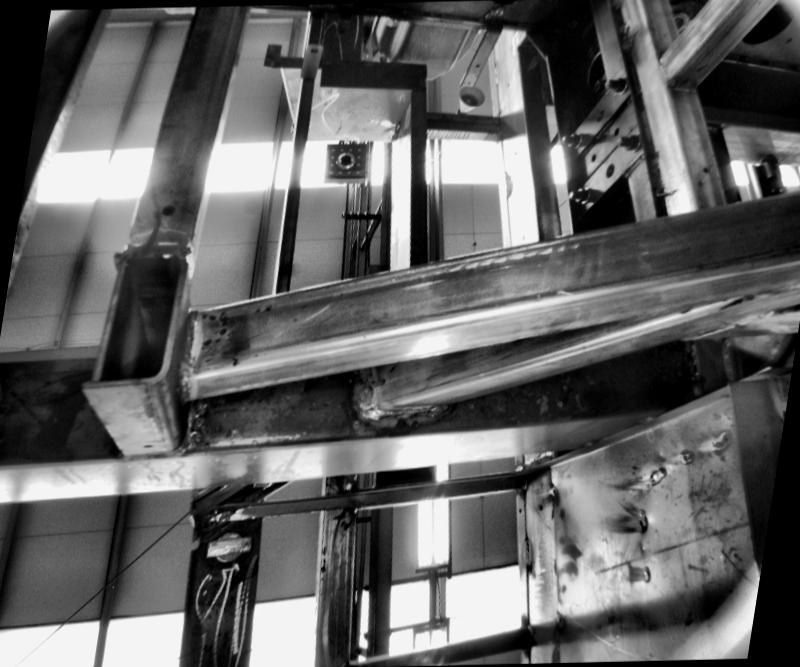bolt: (600, 73, 628, 95), (613, 134, 645, 152), (564, 186, 590, 204), (558, 133, 582, 147)
bracket: (551, 68, 661, 214), (462, 5, 504, 89), (300, 33, 322, 81)
hole: (158, 204, 178, 220), (604, 162, 615, 178), (593, 108, 607, 120), (140, 442, 152, 450), (588, 151, 596, 161), (612, 127, 620, 137), (702, 164, 710, 172), (308, 48, 318, 54), (474, 62, 482, 68), (538, 503, 544, 509), (516, 507, 522, 512), (466, 79, 472, 83), (522, 236, 524, 238), (507, 82, 509, 84)
welding: (352, 404, 447, 420), (180, 313, 202, 377), (354, 367, 382, 417), (519, 536, 533, 568), (489, 64, 501, 86)
